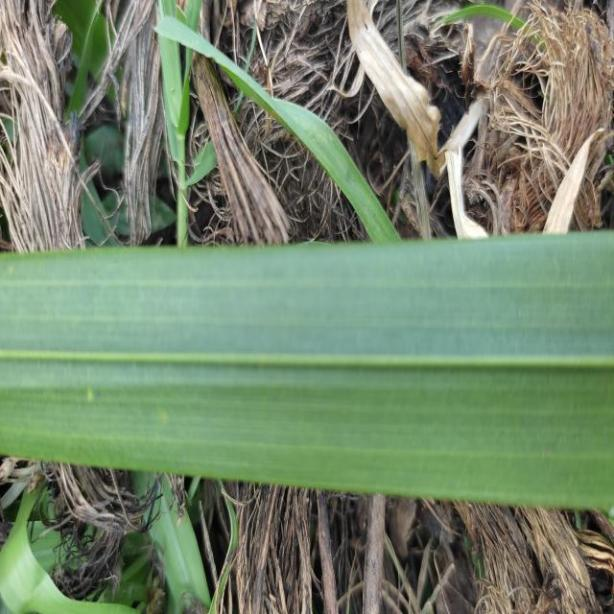Healthy: (0, 226, 614, 510)
